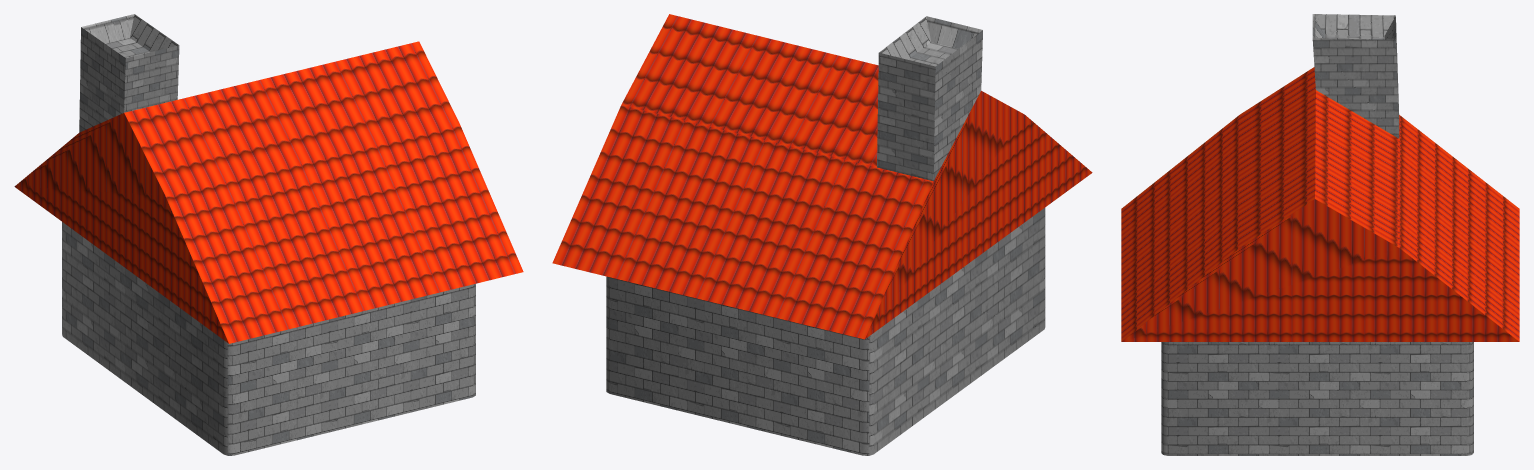
The model's file is house.fbx.
The picture shows the model from 3 angles, left to right: view 1: azimuth 30°, elevation 25°; view 2: azimuth 150°, elevation 25°; view 3: azimuth 270°, elevation 25°; orthographic projection. The views are drawn at different scales.
Visible parts, largest first — view 1: Mesh; view 2: Mesh; view 3: Mesh.
Boxes of the visible parts, x1=… form: Mesh: x1=14, y1=14, x2=523, y2=455; Mesh: x1=552, y1=14, x2=1092, y2=455; Mesh: x1=1121, y1=14, x2=1519, y2=455.
Size of the model in its own units: 3.86 by 4.31 by 4.88.
